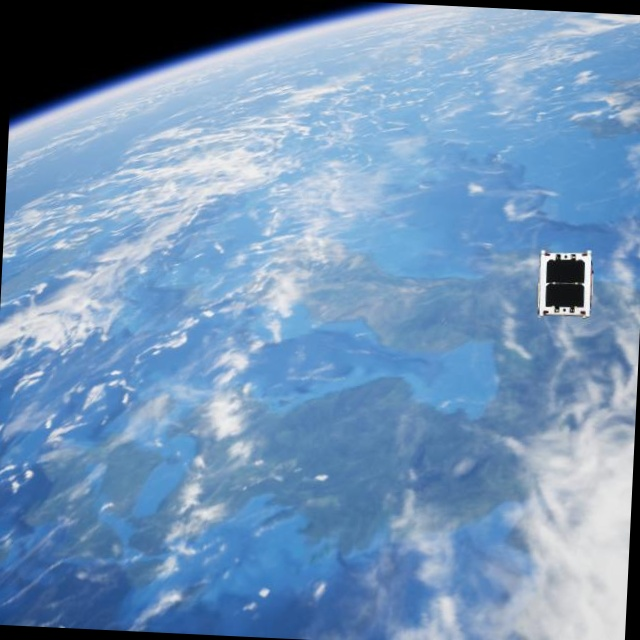satellite: (535, 245, 600, 318)
